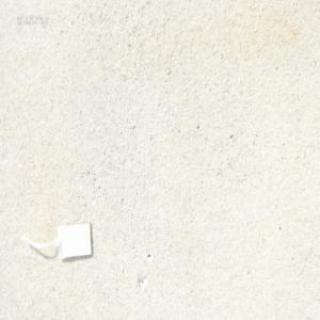LuggageTagtrack_idkeyframe: (19, 218, 93, 262)
